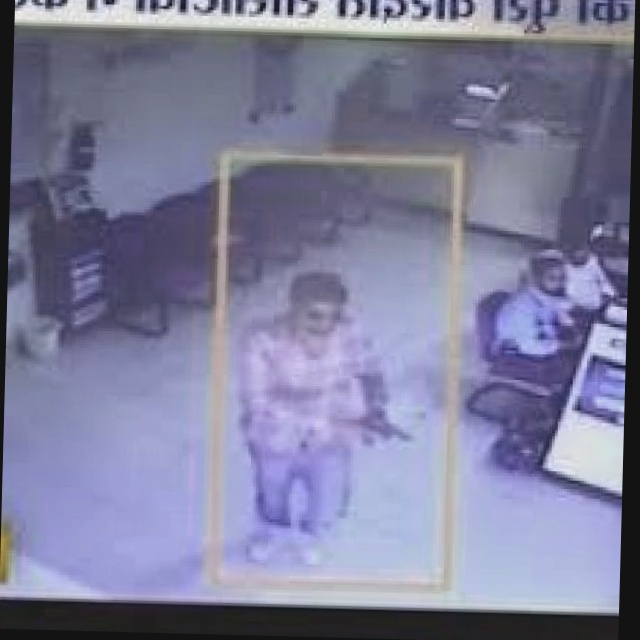gun: (351, 407, 423, 450)
